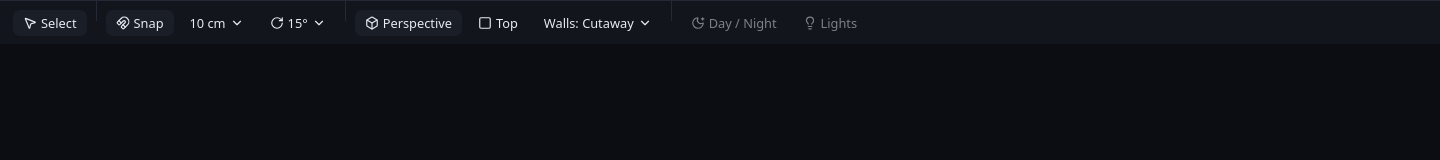
Test: BottomBar › names its shortcut in the tooltip
Hover over the button "Snap" at (140,22), box [104, 8, 174, 36]
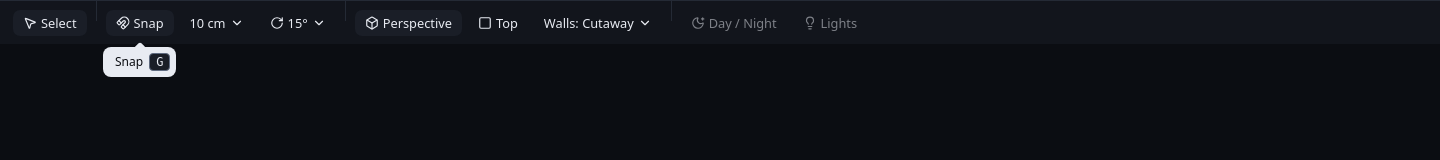
Now the tooltip shows "Snap", box [115, 53, 143, 70]
Now the text "G" is shown, box [149, 53, 170, 71]
